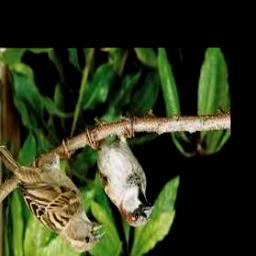Sparrow: (0, 138, 106, 252), (86, 118, 155, 228)
